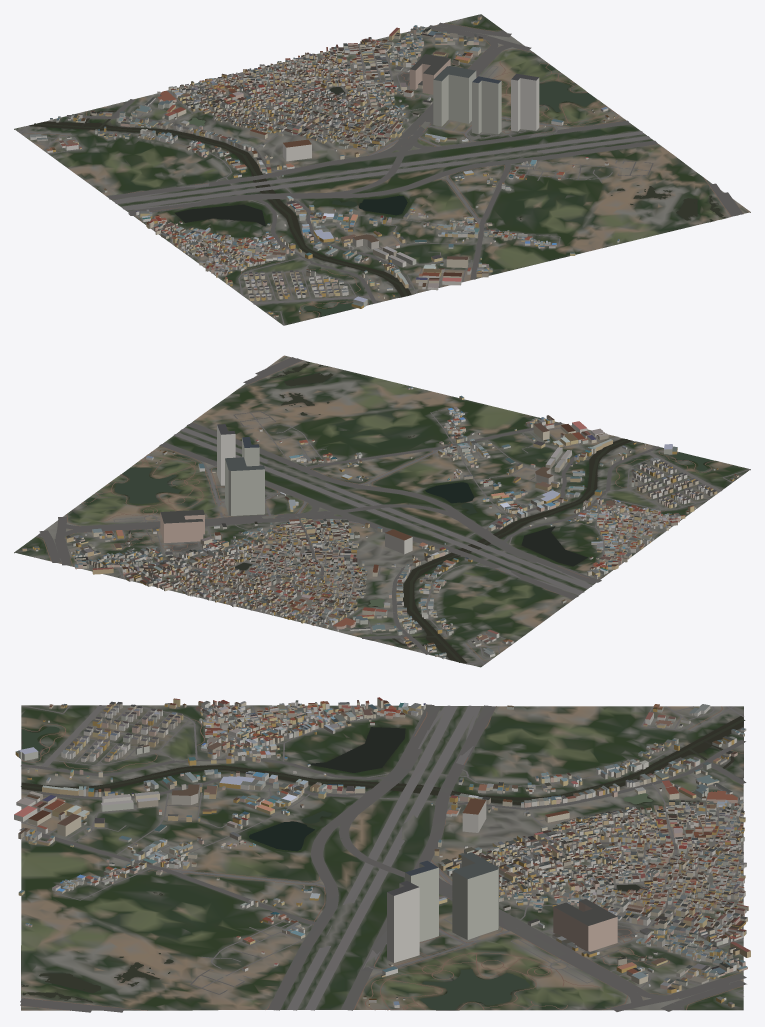
The picture shows the model from 3 angles, top to bottom: view 1: azimuth 30°, elevation 25°; view 2: azimuth 150°, elevation 25°; view 3: azimuth 270°, elevation 25°; orthographic projection. The views are drawn at different scales.
Parts seen in each view (by area): view 1: ground, buildings, roads, water; view 2: ground, buildings, roads, water; view 3: ground, buildings, roads, water.
Boxes of the visible parts, bbox=[...] form: ground: bbox=[14, 14, 750, 325]; buildings: bbox=[30, 15, 619, 317]; roads: bbox=[17, 19, 743, 325]; water: bbox=[30, 65, 725, 316]; ground: bbox=[14, 355, 750, 667]; buildings: bbox=[22, 387, 738, 659]; roads: bbox=[34, 357, 749, 664]; water: bbox=[114, 362, 713, 663]; ground: bbox=[21, 705, 743, 1010]; buildings: bbox=[14, 697, 750, 1007]; roads: bbox=[19, 704, 746, 1012]; water: bbox=[21, 716, 745, 1009].
Size of the model in its own units: 1418 by 150 by 1430.
